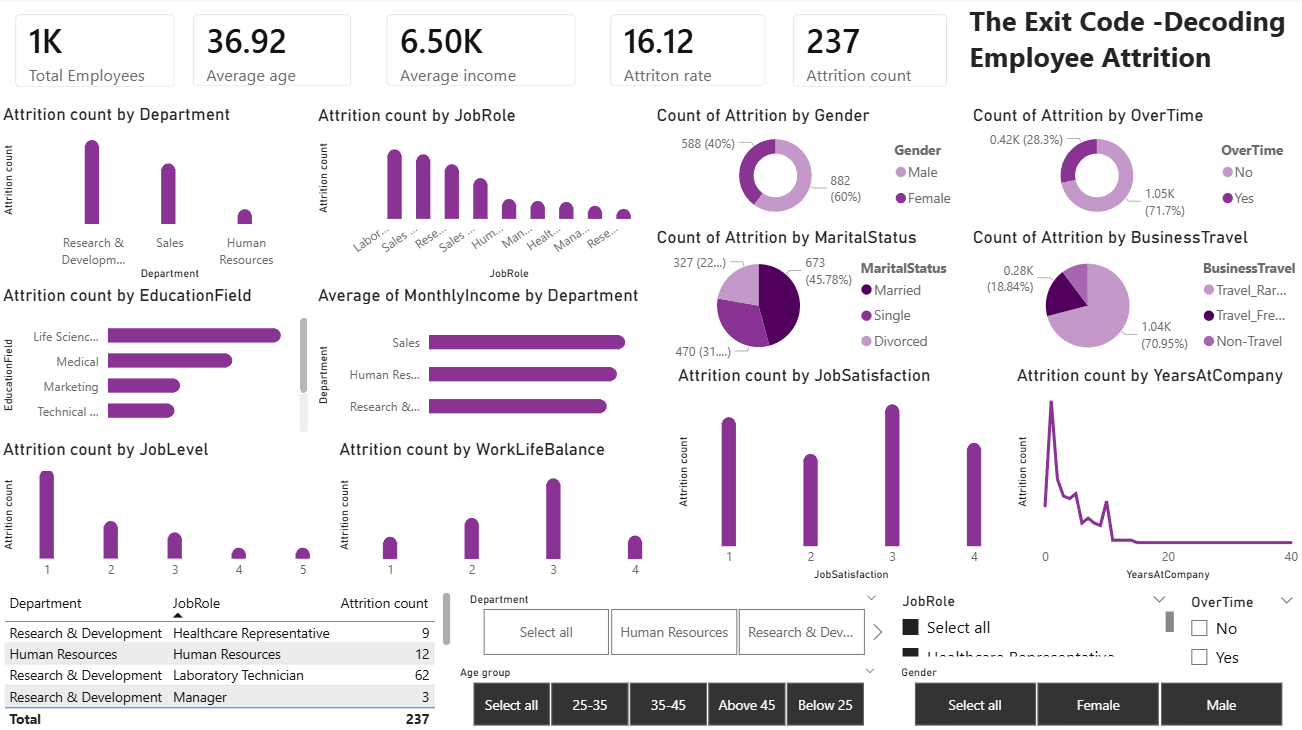

This screenshot's page, from the dashboard's own definition file:
{"tool":"powerbi","page":{"name":"Employee-Attrition","canvas":[1280,720],"ordinal":0},"visuals":[{"type":"cardVisual","fields":{"Data":["employee_cleaned.Total Employees"]},"box":[0,0,190,105],"z":0},{"type":"cardVisual","fields":{"Data":["employee_cleaned.Average age"]},"box":[173.3,0,189.7,104.6],"z":1000},{"type":"cardVisual","fields":{"Data":["employee_cleaned.Average income"]},"box":[363,0,219.6,104.6],"z":2000},{"type":"cardVisual","fields":{"Data":["employee_cleaned.Attrition count"]},"box":[760,0,185.7,105.7],"z":3000},{"type":"cardVisual","fields":{"Data":["employee_cleaned.Attriton rate"]},"box":[582.6,0,186.7,104.6],"z":4000},{"type":"columnChart","fields":{"Category":["employee_cleaned.Department"],"Y":["employee_cleaned.Attrition count"]},"box":[0,104,308,178],"z":5000},{"type":"columnChart","fields":{"Category":["employee_cleaned.JobRole"],"Y":["employee_cleaned.Attrition count"]},"box":[308.3,105,331.7,176.7],"z":6000},{"type":"barChart","fields":{"Category":["employee_cleaned.EducationField"],"Y":["employee_cleaned.Attrition count"]},"box":[0,281.7,308.3,150],"z":7000},{"type":"barChart","fields":{"Category":["employee_cleaned.Department"],"Y":["Avg(employee_cleaned.MonthlyIncome)"]},"box":[308.3,281.7,331.7,150],"z":8000},{"type":"donutChart","fields":{"Category":["employee_cleaned.Gender"],"Y":["CountNonNull(employee_cleaned.Attrition)"]},"box":[640,105,308.3,120],"z":9000},{"type":"pieChart","fields":{"Category":["employee_cleaned.MaritalStatus"],"Y":["CountNonNull(employee_cleaned.Attrition)"]},"box":[640,225,308.3,135],"z":10000},{"type":"pieChart","fields":{"Category":["employee_cleaned.BusinessTravel"],"Y":["CountNonNull(employee_cleaned.Attrition)"]},"box":[948.3,225,331.7,135],"z":11000},{"type":"donutChart","fields":{"Category":["employee_cleaned.OverTime"],"Y":["CountNonNull(employee_cleaned.Attrition)"]},"box":[948.3,105,331.7,120],"z":12000},{"type":"columnChart","fields":{"Category":["employee_cleaned.JobLevel"],"Y":["employee_cleaned.Attrition count"]},"box":[0,431.7,328.3,146.7],"z":13000},{"type":"columnChart","fields":{"Category":["employee_cleaned.WorkLifeBalance"],"Y":["employee_cleaned.Attrition count"]},"box":[328.6,431.4,331.4,147.1],"z":14000},{"type":"columnChart","fields":{"Category":["employee_cleaned.JobSatisfaction"],"Y":["employee_cleaned.Attrition count"]},"box":[660,360,331.7,216.7],"z":15000},{"type":"lineChart","fields":{"Category":["employee_cleaned.YearsAtCompany"],"Y":["employee_cleaned.Attrition count"]},"box":[991.7,360,288.3,216.7],"z":16000},{"type":"tableEx","fields":{"Values":["employee_cleaned.Department","employee_cleaned.JobRole","employee_cleaned.Attrition count"]},"box":[0,576.7,448.3,143.3],"z":17000},{"type":"slicer","fields":{"Values":["employee_cleaned.Department"]},"box":[448.3,576.7,423.3,73.3],"z":18000},{"type":"slicer","fields":{"Values":["employee_cleaned.Gender"]},"box":[870.9,649.8,409.3,70.2],"z":19000},{"type":"slicer","fields":{"Values":["employee_cleaned.OverTime"]},"box":[1154.7,578.1,125.5,89.6],"z":20000},{"type":"slicer","fields":{"Values":["employee_cleaned.JobRole"]},"box":[871.7,576.7,283.3,73.3],"z":21000},{"type":"slicer","fields":{"Values":["employee_cleaned.Age group"]},"box":[439.2,649.8,431.7,70.2],"z":22000},{"type":"textbox","box":[945.6,0,334.6,104.6],"z":23000}]}

Visuals, with their boxes in screenshot pixels (x1, y1, x2, y2), scaled from the page's 1280x720 canvas onto the 1302x730 screenshot:
cardVisual - employee_cleaned.Total Employees: <box>0,0,193,106</box>
cardVisual - employee_cleaned.Average age: <box>176,0,369,106</box>
cardVisual - employee_cleaned.Average income: <box>369,0,593,106</box>
cardVisual - employee_cleaned.Attrition count: <box>773,0,962,107</box>
cardVisual - employee_cleaned.Attriton rate: <box>593,0,783,106</box>
columnChart - employee_cleaned.Department x employee_cleaned.Attrition count: <box>0,105,313,286</box>
columnChart - employee_cleaned.JobRole x employee_cleaned.Attrition count: <box>314,106,651,286</box>
barChart - employee_cleaned.EducationField x employee_cleaned.Attrition count: <box>0,286,314,438</box>
barChart - employee_cleaned.Department x Avg(employee_cleaned.MonthlyIncome): <box>314,286,651,438</box>
donutChart - employee_cleaned.Gender x CountNonNull(employee_cleaned.Attrition): <box>651,106,965,228</box>
pieChart - employee_cleaned.MaritalStatus x CountNonNull(employee_cleaned.Attrition): <box>651,228,965,365</box>
pieChart - employee_cleaned.BusinessTravel x CountNonNull(employee_cleaned.Attrition): <box>965,228,1301,365</box>
donutChart - employee_cleaned.OverTime x CountNonNull(employee_cleaned.Attrition): <box>965,106,1301,228</box>
columnChart - employee_cleaned.JobLevel x employee_cleaned.Attrition count: <box>0,438,334,586</box>
columnChart - employee_cleaned.WorkLifeBalance x employee_cleaned.Attrition count: <box>334,437,671,587</box>
columnChart - employee_cleaned.JobSatisfaction x employee_cleaned.Attrition count: <box>671,365,1009,585</box>
lineChart - employee_cleaned.YearsAtCompany x employee_cleaned.Attrition count: <box>1009,365,1301,585</box>
tableEx - employee_cleaned.Department x employee_cleaned.JobRole: <box>0,585,456,729</box>
slicer - employee_cleaned.Department: <box>456,585,887,659</box>
slicer - employee_cleaned.Gender: <box>886,659,1301,729</box>
slicer - employee_cleaned.OverTime: <box>1175,586,1301,677</box>
slicer - employee_cleaned.JobRole: <box>887,585,1175,659</box>
slicer - employee_cleaned.Age group: <box>447,659,886,729</box>
textbox: <box>962,0,1301,106</box>
